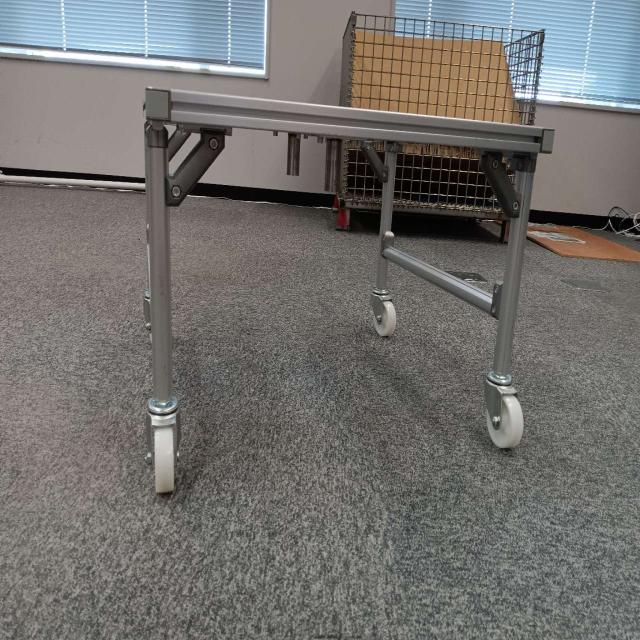door: (147, 83, 537, 222)
